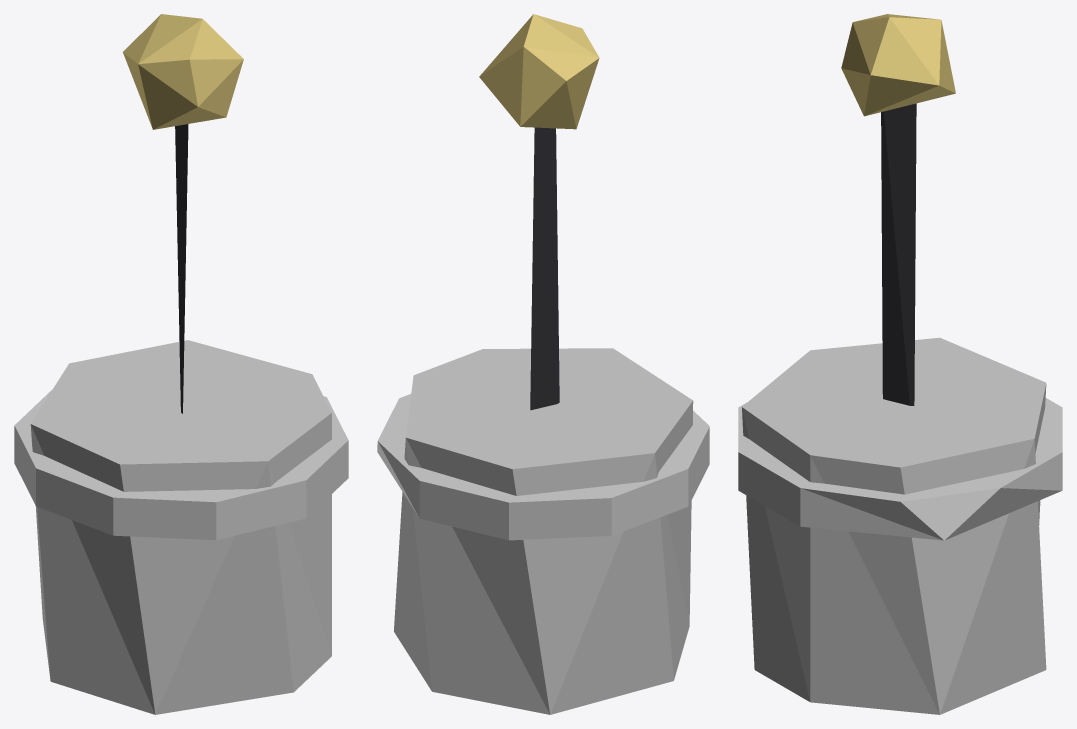
Rendered from buoy_skiff_lod1.glb.
3 renders of one model, left to right at view 1: azimuth 30°, elevation 25°; view 2: azimuth 150°, elevation 25°; view 3: azimuth 270°, elevation 25°, orthographic. The views are drawn at different scales.
Visible parts, largest first — view 1: geometry_0; view 2: geometry_0; view 3: geometry_0.
Part boxes in pixels (x1,y1,x2,y2): geometry_0: [14, 14, 348, 714]; geometry_0: [377, 14, 709, 714]; geometry_0: [738, 14, 1062, 714].
Size of the model in its own units: 2 by 4.15 by 1.9.
